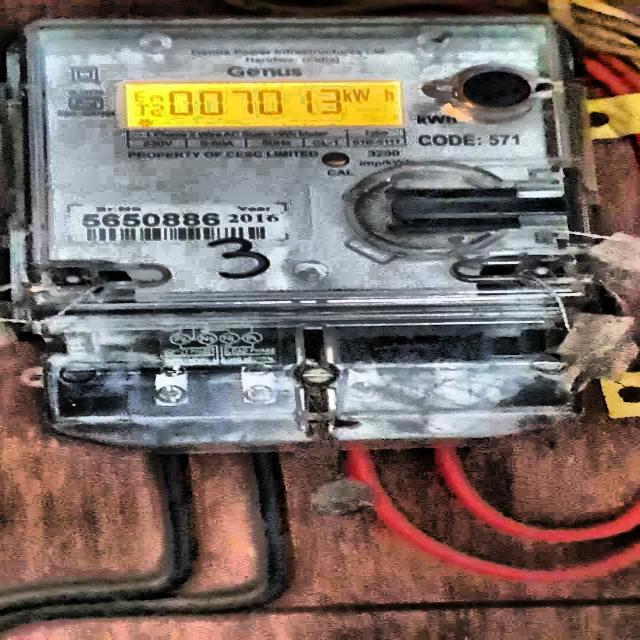Digital: (2, 13, 615, 446)
Reading: (167, 86, 342, 119)
Serial No.: (80, 214, 224, 227)
